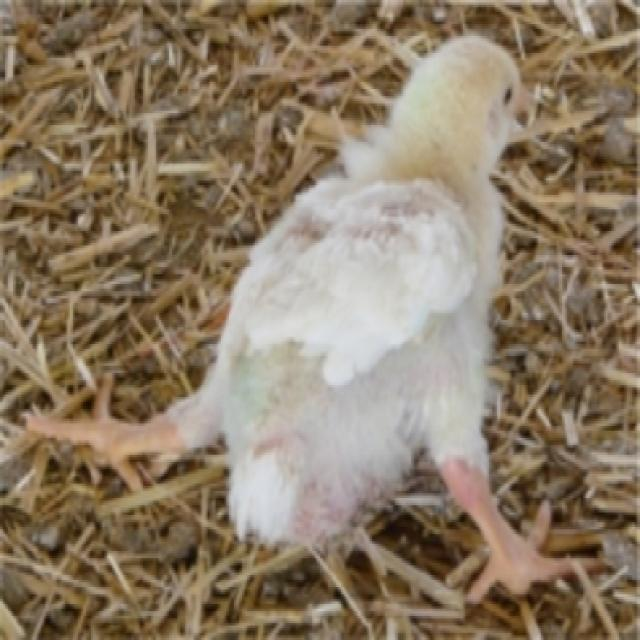AbNormal: (30, 35, 595, 600)
